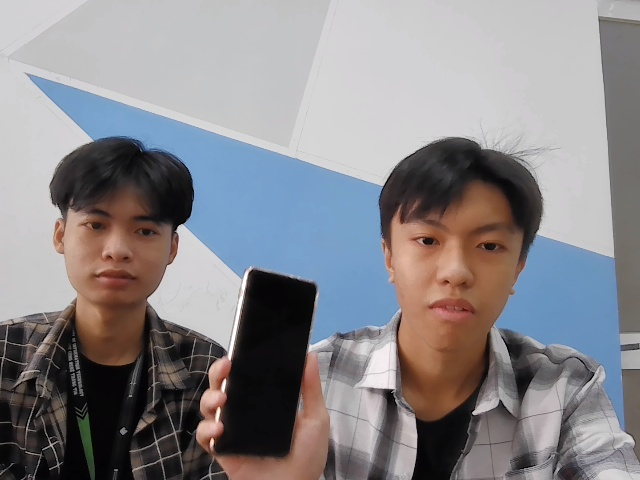human: (379, 139, 544, 352), (50, 137, 194, 306)
phone: (208, 266, 320, 462)
